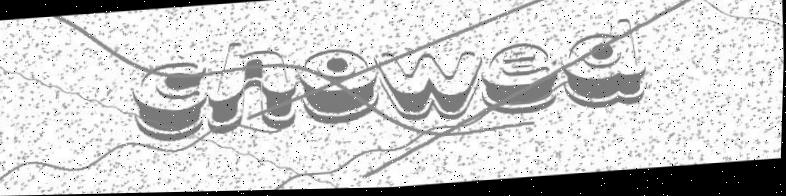c: (131, 59, 210, 145)
d: (557, 20, 650, 114)
e: (478, 42, 559, 120)
h: (205, 39, 300, 137)
o: (295, 47, 382, 129)
w: (373, 46, 487, 126)
